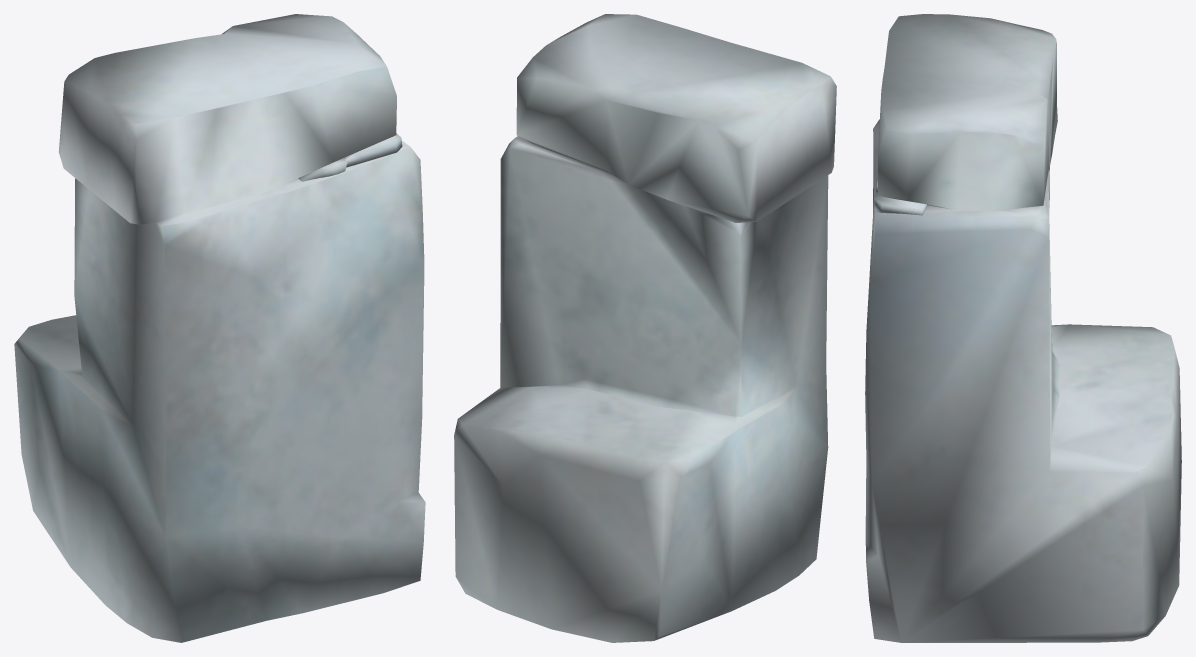
The model's file is P_CubicCliffPiece19.obj.
3 views of the same model, side by side, from view 1: azimuth 30°, elevation 25°; view 2: azimuth 150°, elevation 25°; view 3: azimuth 270°, elevation 25° (orthographic). The views are drawn at different scales.
Bounding box in the file's own units: 24.83 × 45.17 × 25.58.
